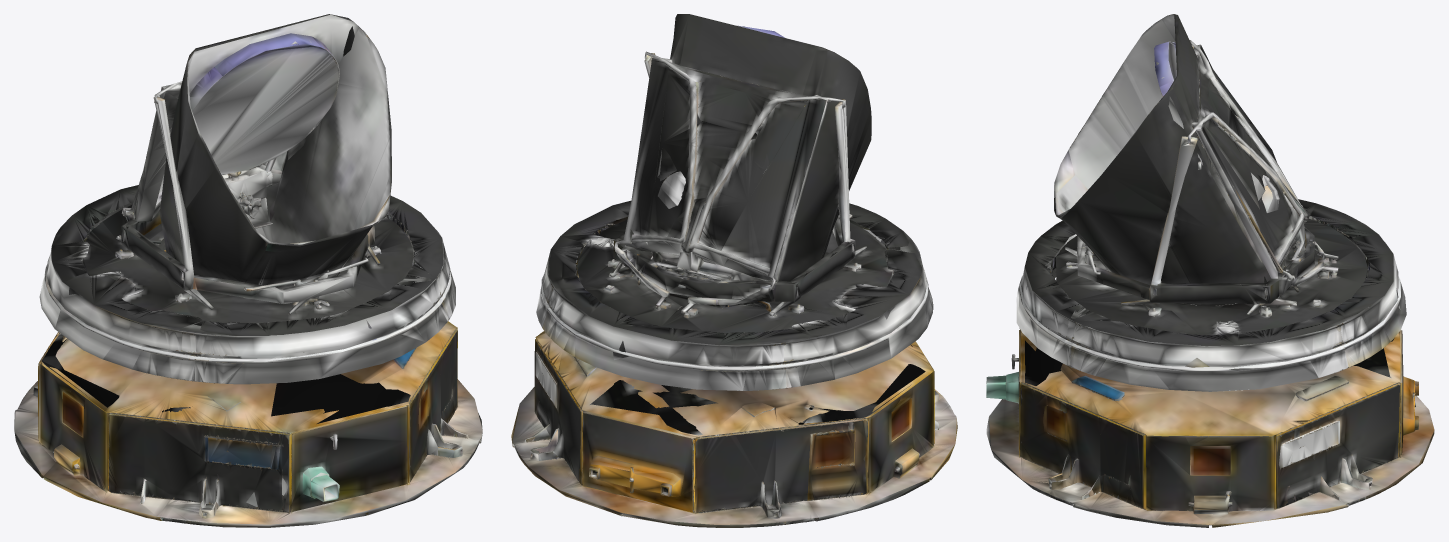
File: planck-low.glb
The picture shows the model from 3 angles, left to right: view 1: azimuth 30°, elevation 25°; view 2: azimuth 150°, elevation 25°; view 3: azimuth 270°, elevation 25°; orthographic projection. The views are drawn at different scales.
Size of the model in its own units: 1.9 by 1.84 by 1.9.
1 material, 1 textured.
